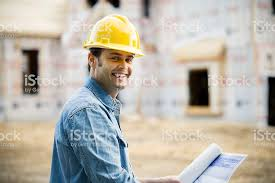Person_wearing_helmet: (77, 11, 148, 62)
